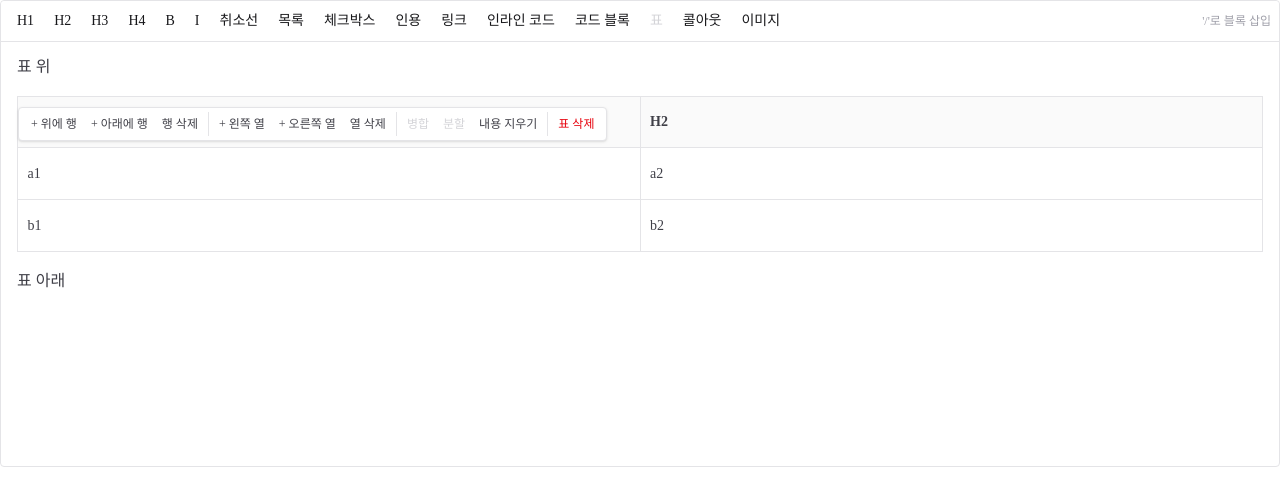
실행할 수 없는 버튼은 비활성이다 › 이미 빈 칸이면 '셀 내용 지우기'가 비활성이다
This screenshot has width=1280, height=484.
Check: the field labelled "표 위 H1 H2 a1 a2 b1 b2 표 아래" is shown, box top-left (17, 58), bottom-right (1262, 289)
Check: the element named "표 편집" is shown, box top-left (18, 107), bottom-right (607, 141)
Click the button with aria-label "셀 내용 지우기" at (508, 124), box top-left (473, 112), bottom-right (543, 136)
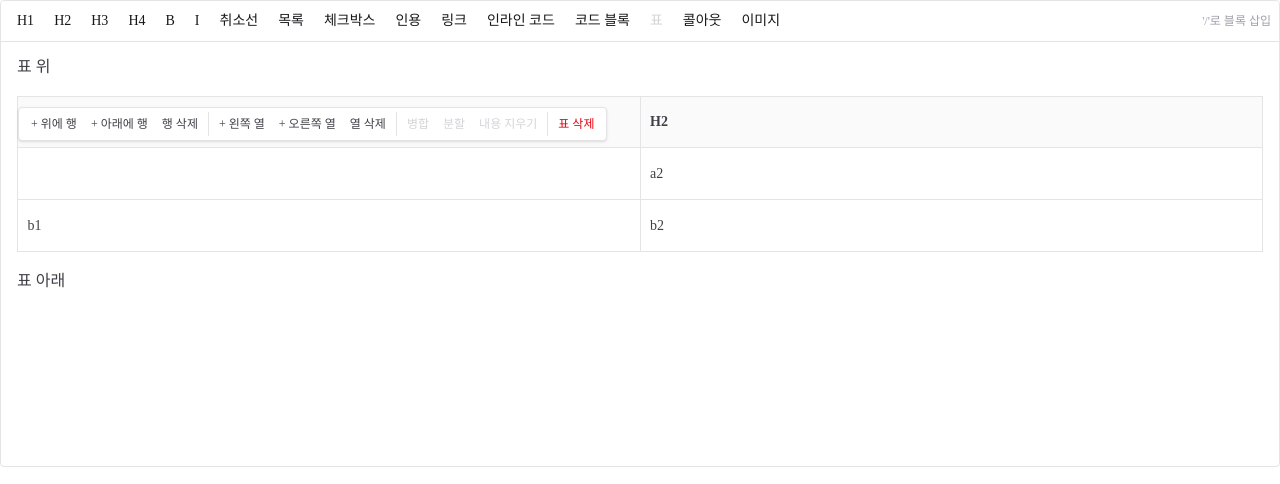
Check: the button with aria-label "셀 내용 지우기" is disabled, box top-left (473, 112), bottom-right (543, 136)
